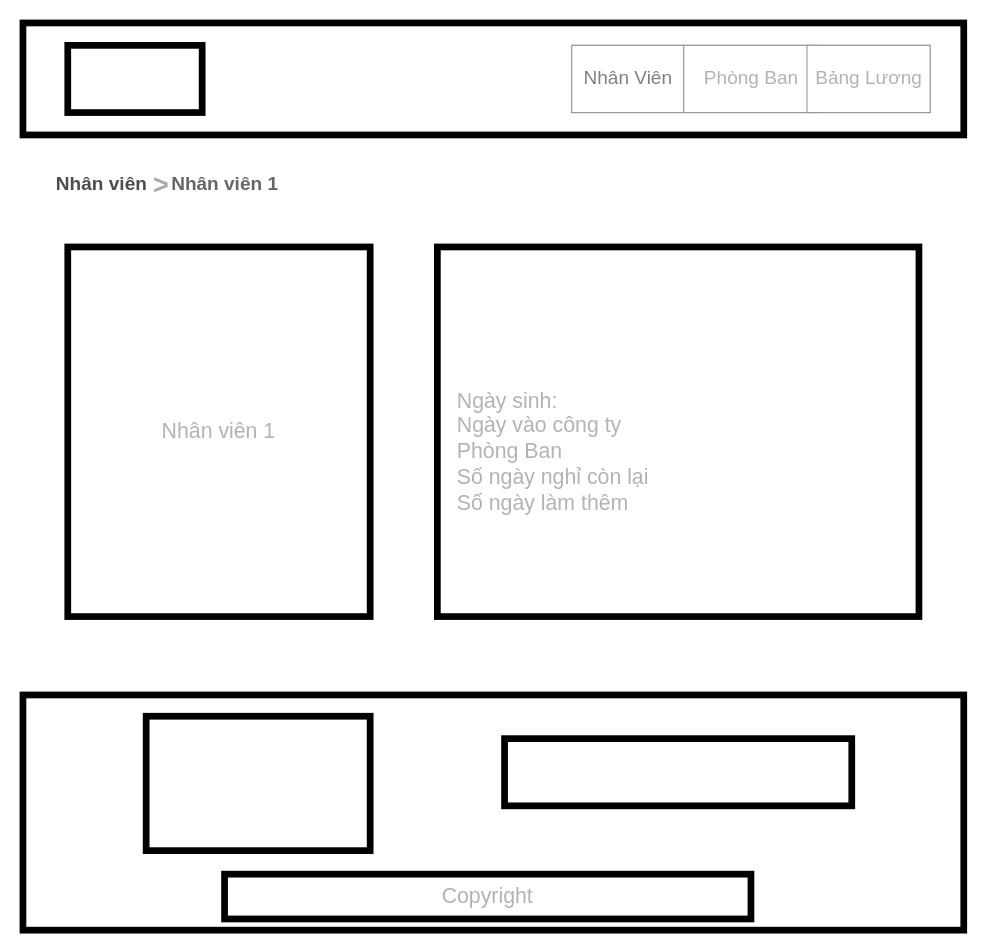
Image size: 986x952. Some labels were removed from this diagram. Each missing label, with the box of its shape:
Các icon mạng xã hội: (501, 735, 855, 809)
Thông tin về website: (142, 712, 373, 853)
Trang chủ: (64, 41, 205, 115)
